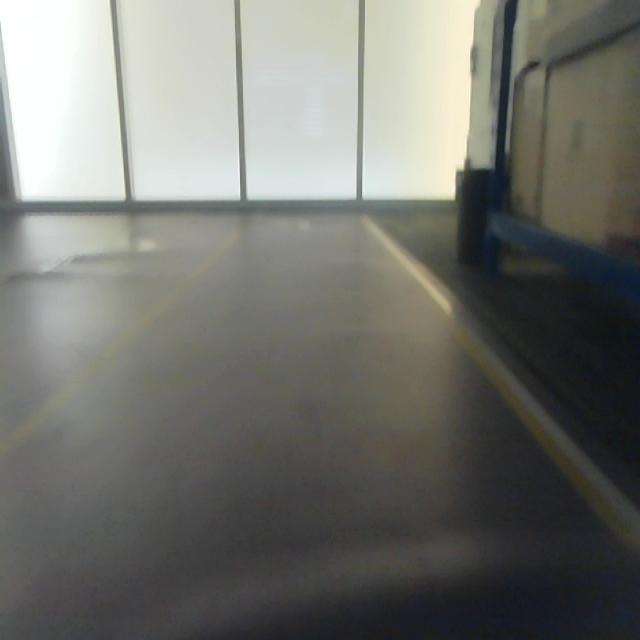left_lane: (0, 231, 237, 459)
right_lane: (365, 219, 640, 542)
